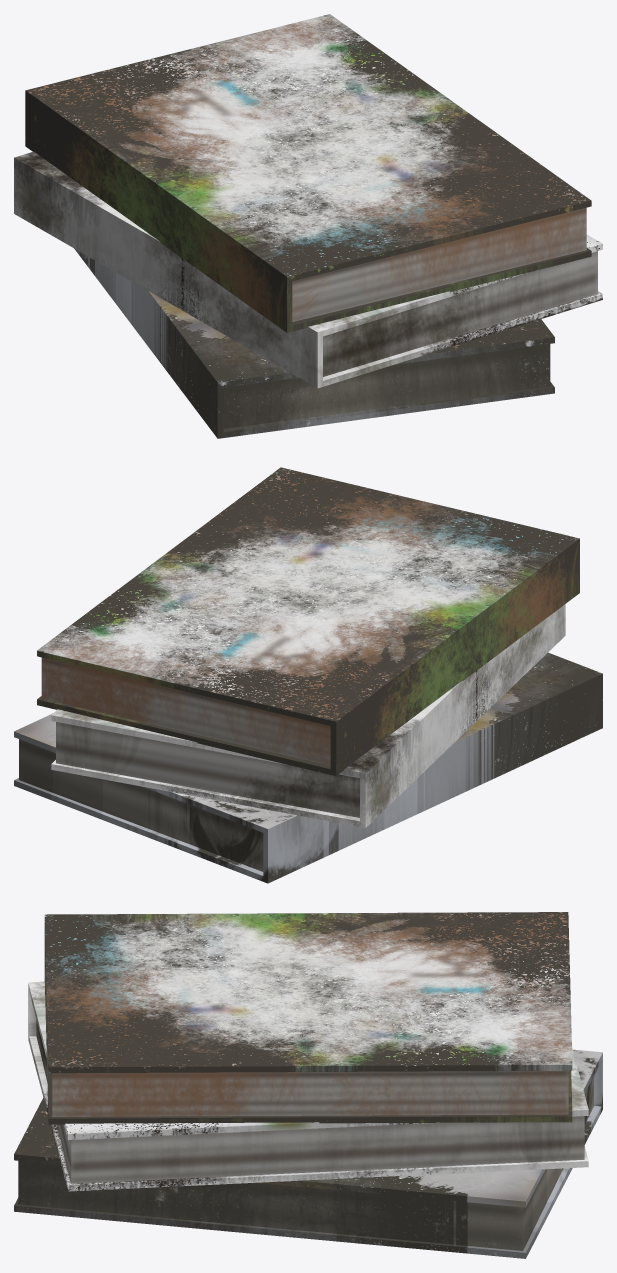
The model's file is M_TextBooks.fbx.
3 renders of one model, top to bottom at view 1: azimuth 30°, elevation 25°; view 2: azimuth 150°, elevation 25°; view 3: azimuth 270°, elevation 25°, orthographic. The views are drawn at different scales.
Parts seen in each view (by area): view 1: textbook1_GEO, textbook2_GEO, textbook3_GEO; view 2: textbook1_GEO, textbook3_GEO, textbook2_GEO; view 3: textbook1_GEO, textbook3_GEO, textbook2_GEO.
Boxes of the visible parts, x1,y1,x2,y2 form: textbook1_GEO: (25,14,591,332); textbook2_GEO: (14,151,602,388); textbook3_GEO: (74,248,554,438); textbook1_GEO: (37,467,579,775); textbook3_GEO: (14,652,602,883); textbook2_GEO: (51,604,565,827); textbook1_GEO: (44,912,572,1124); textbook3_GEO: (14,1049,602,1258); textbook2_GEO: (28,981,588,1191).
Size of the model in its own units: 14.09 by 5.72 by 17.85.
Materials: 3 (3 with a texture image).
